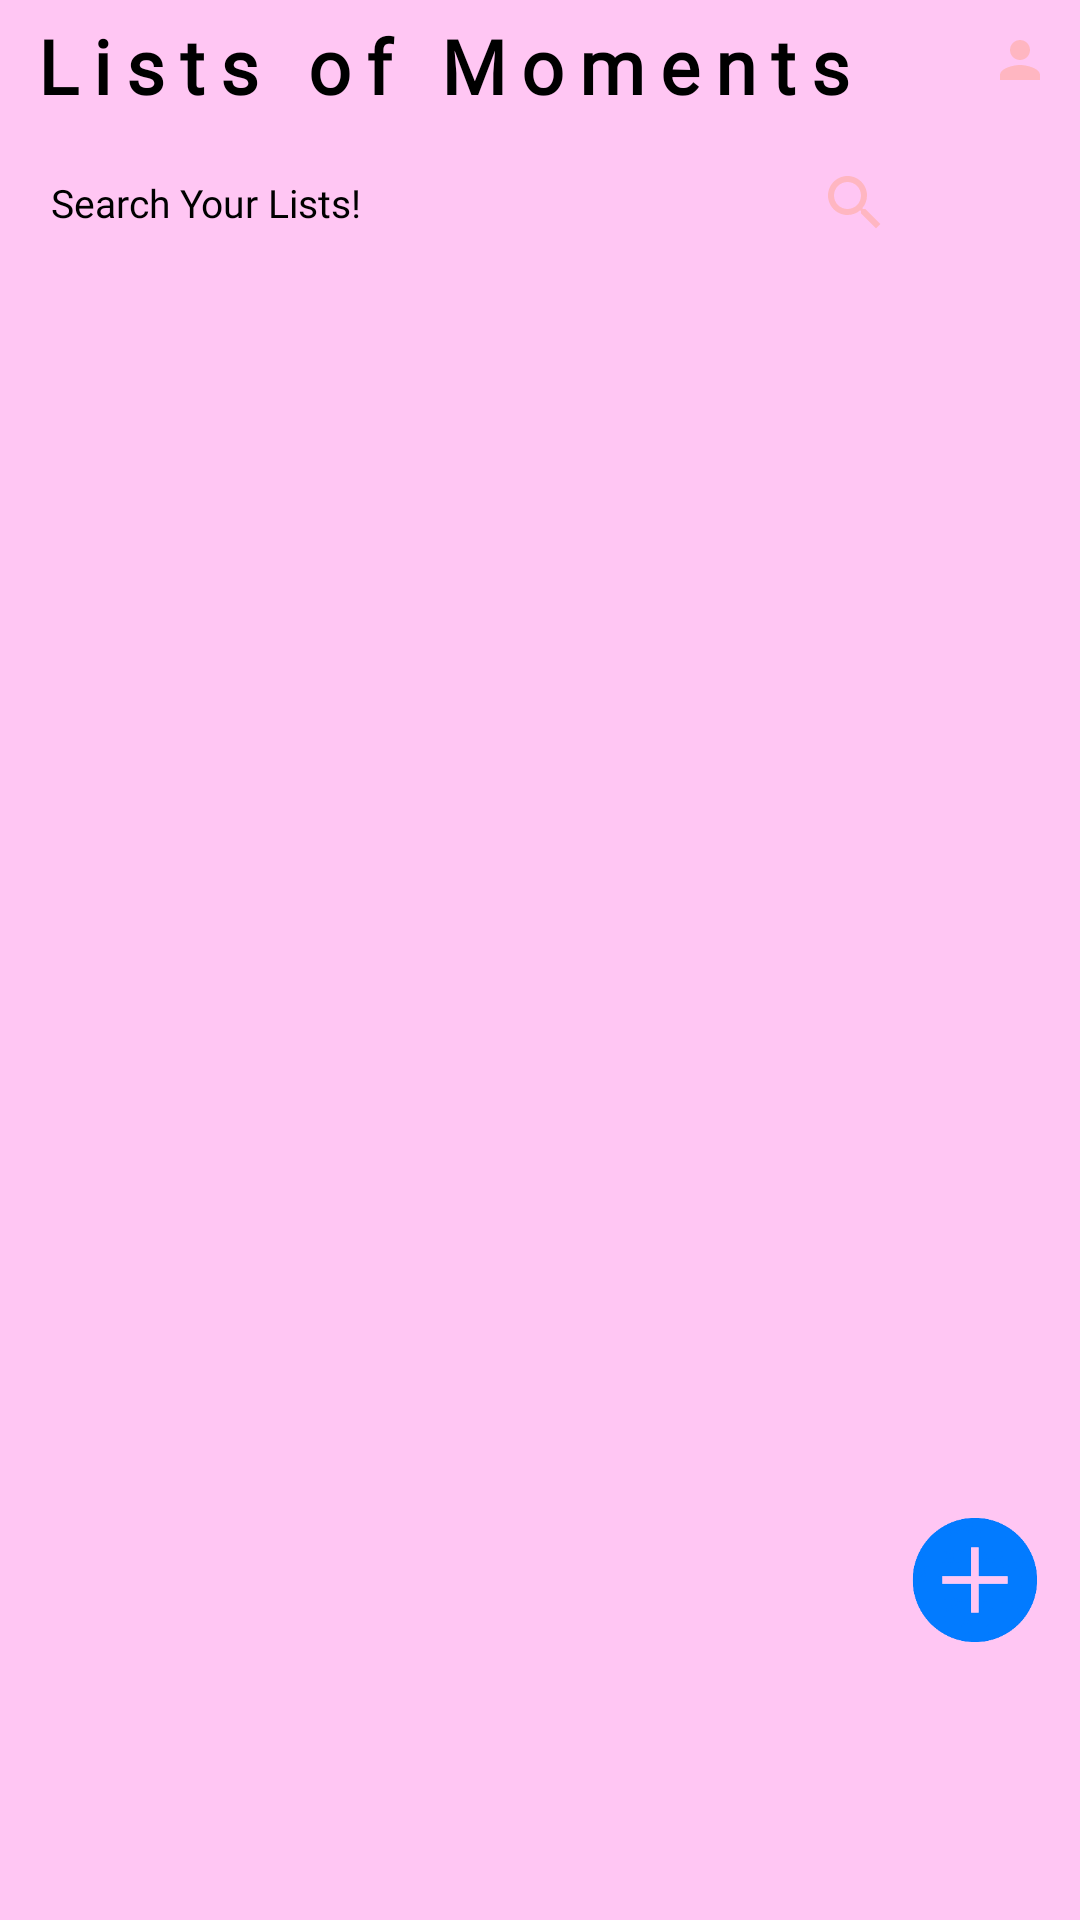

Where icons sit on this 1080 x 1920 app screen, as (x1, y1, x2, y2):
person: (1000, 40, 1040, 80)
plus: (912, 1518, 1037, 1642)
